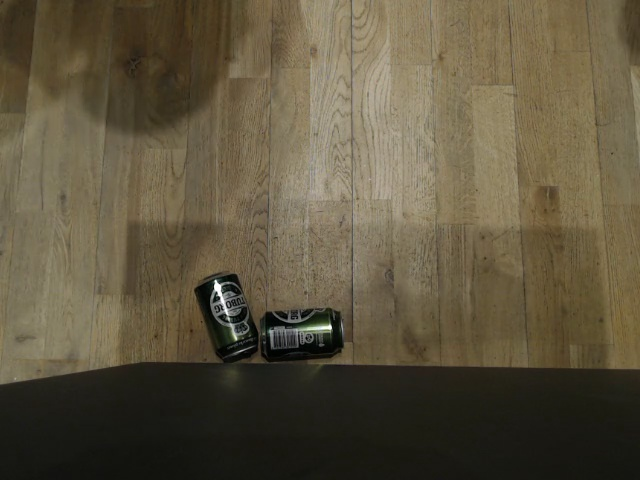beer: (194, 268, 256, 361), (259, 307, 345, 359)
